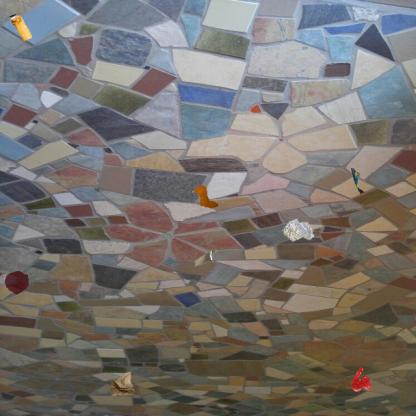dirty: (280, 216, 316, 244), (6, 13, 32, 42), (191, 184, 221, 209), (108, 371, 135, 398), (193, 246, 218, 268), (350, 165, 364, 194)
liquid: (2, 270, 30, 296), (350, 366, 372, 393)
